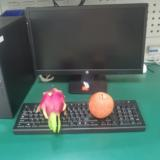apple: (88, 91, 114, 118)
pitaya: (39, 89, 66, 131)
